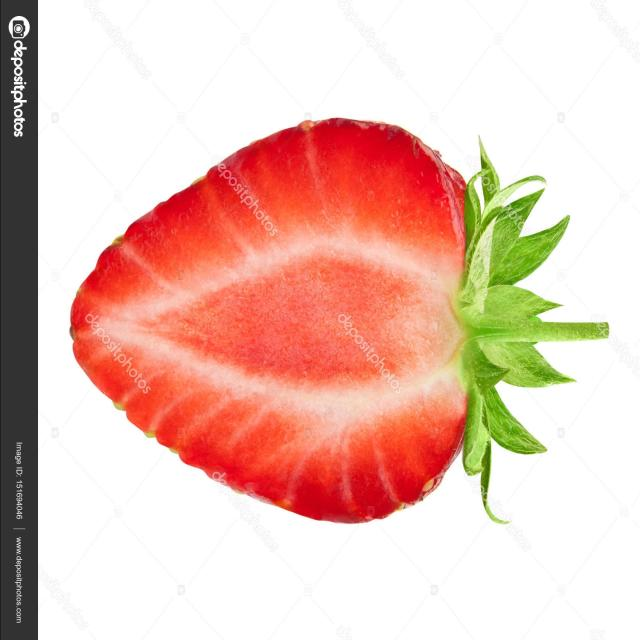strawberry: (67, 113, 620, 555)
